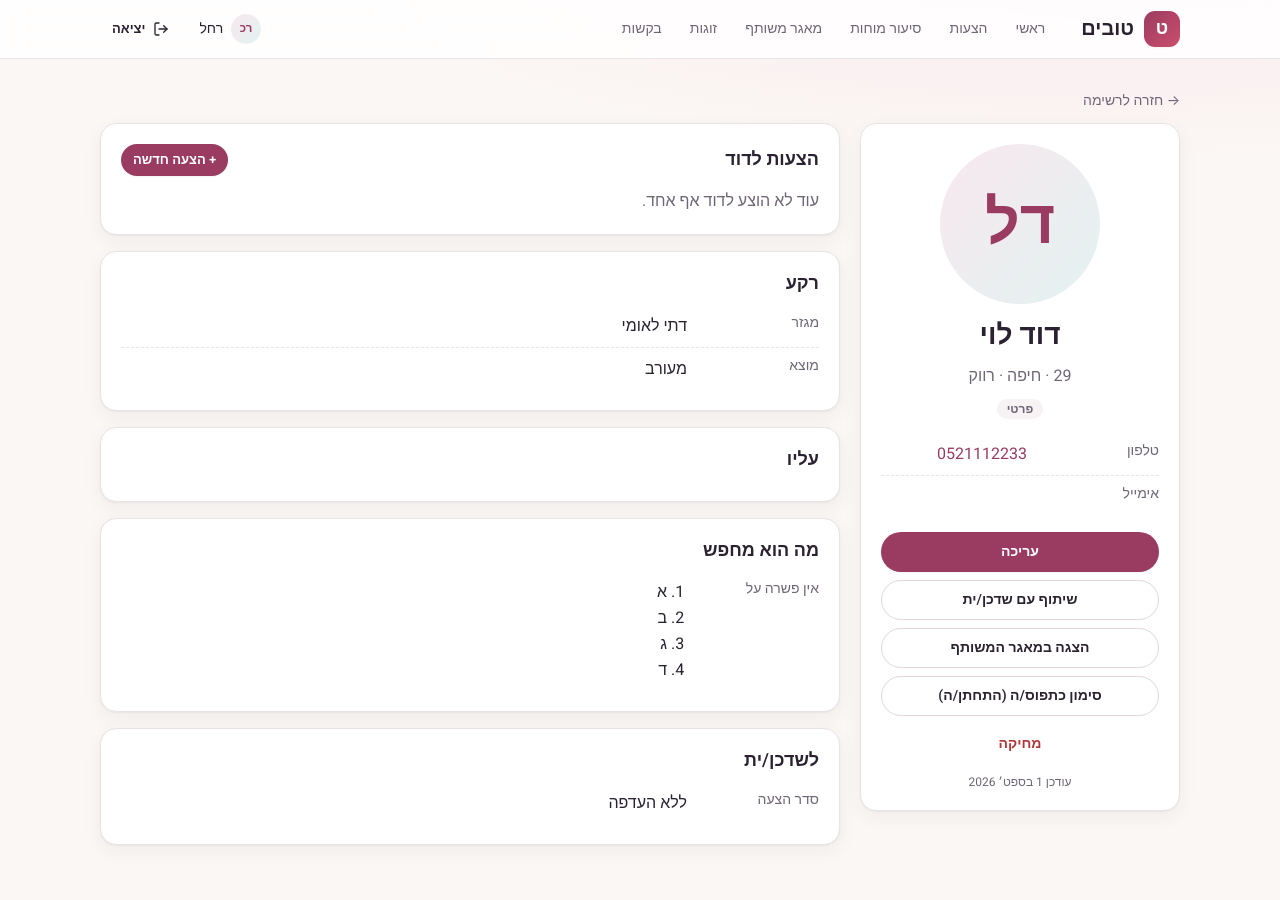
Test case: transfer requests › the share dialog tells the sender the single stays on their list
Click the button "שיתוף עם שדכן/ית": (1020, 600) x1=881 y1=580 x2=1159 y2=620
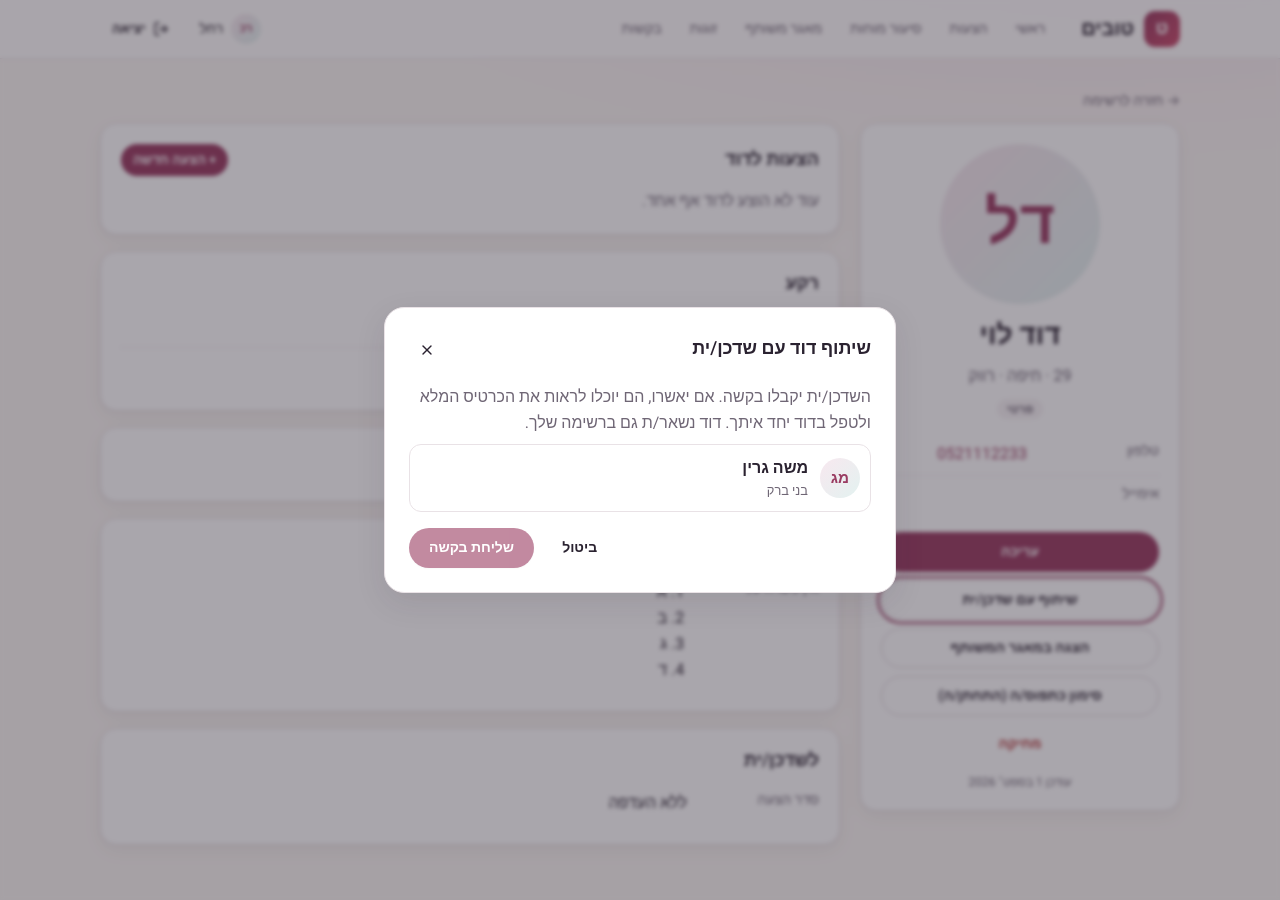
Check: the dialog shows "דוד נשאר/ת גם ברשימה שלך", box x1=384 y1=307 x2=896 y2=593
